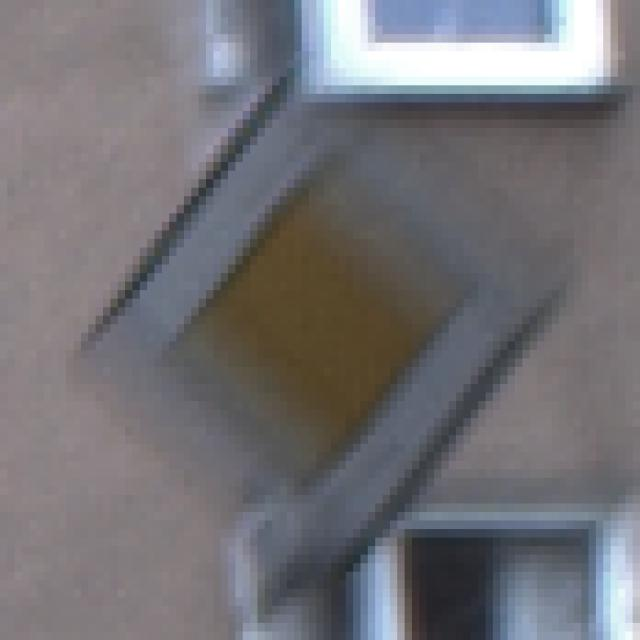Main Road: (60, 52, 589, 590)
